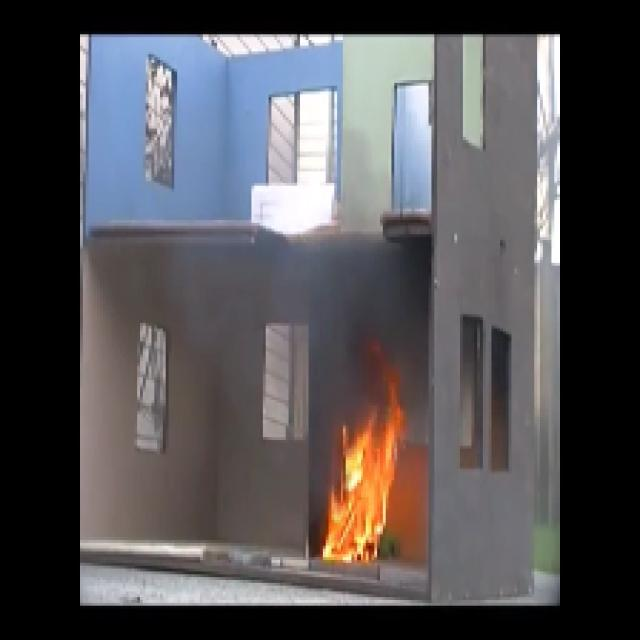fire: (329, 390, 397, 563)
smoke: (317, 236, 419, 340)
